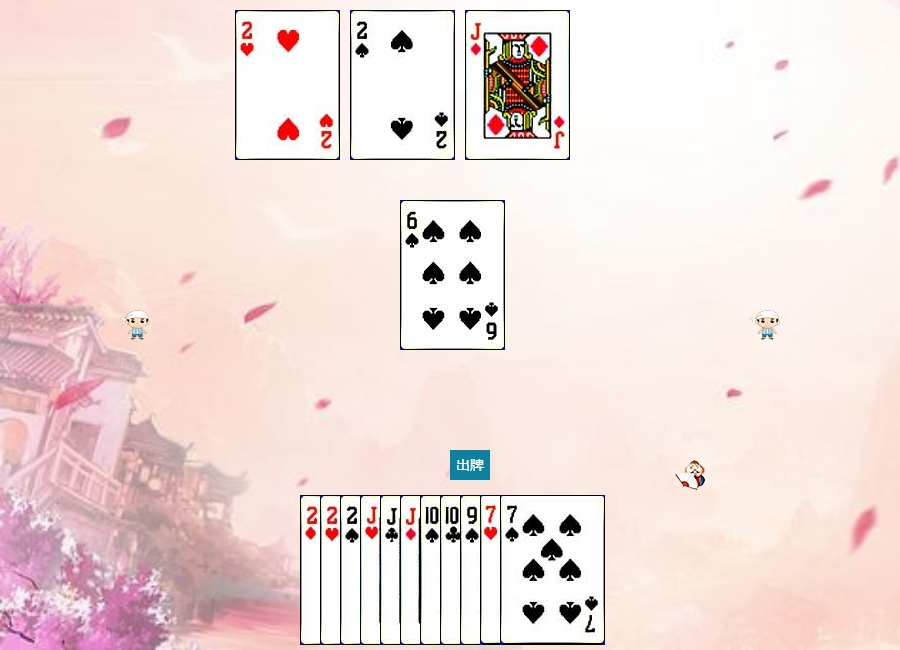10~2: (440, 495, 545, 645)
10~4: (420, 495, 525, 645)
11~1: (465, 10, 570, 160), (400, 495, 505, 645)
11~2: (380, 495, 485, 645)
11~3: (360, 495, 465, 645)
15~1: (300, 495, 405, 645)
15~3: (235, 10, 340, 160), (320, 495, 425, 645)
15~4: (350, 10, 455, 160), (340, 495, 445, 645)
6~4: (400, 200, 505, 350)
7~3: (480, 495, 585, 645)
7~4: (500, 495, 605, 645)
9~4: (460, 495, 565, 645)
